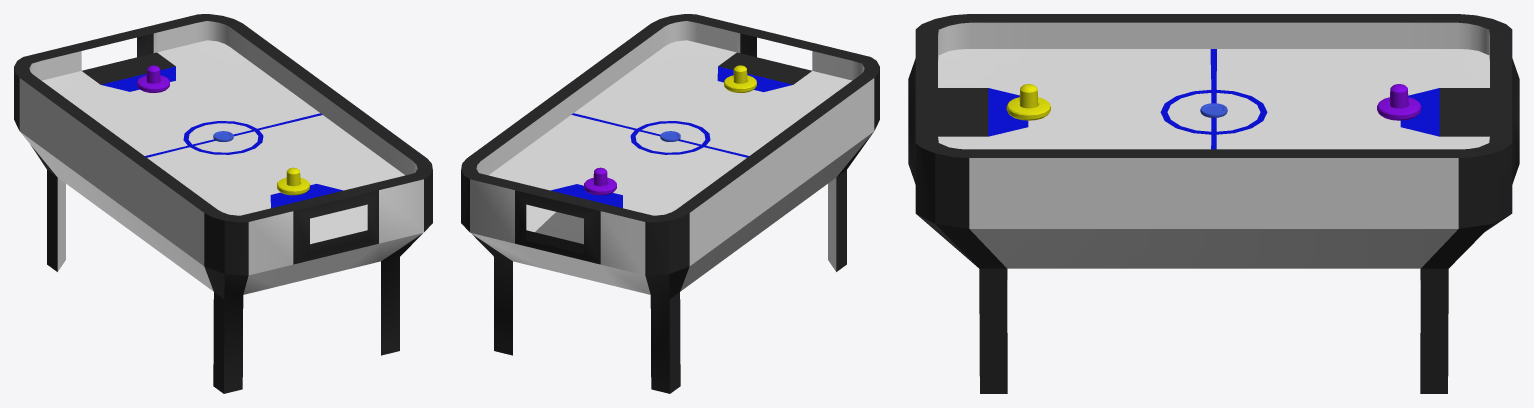
The model's file is air hockey.fbx.
The picture shows the model from 3 angles, left to right: view 1: azimuth 30°, elevation 25°; view 2: azimuth 150°, elevation 25°; view 3: azimuth 270°, elevation 25°; orthographic projection. The views are drawn at different scales.
Parts seen in each view (by area): view 1: cabinet, paddle1, paddle2; view 2: cabinet, paddle2, paddle1; view 3: cabinet, paddle1, paddle2.
Part boxes in pixels (x1=…): cabinet: x1=14, y1=14, x2=432, y2=393; paddle1: x1=277, y1=167, x2=309, y2=195; paddle2: x1=137, y1=65, x2=169, y2=92; cabinet: x1=461, y1=14, x2=879, y2=393; paddle2: x1=584, y1=167, x2=616, y2=195; paddle1: x1=724, y1=65, x2=756, y2=92; cabinet: x1=908, y1=14, x2=1519, y2=393; paddle1: x1=1006, y1=84, x2=1050, y2=120; paddle2: x1=1377, y1=84, x2=1421, y2=120.
Size of the model in its own units: 1596 by 1298 by 2861.
